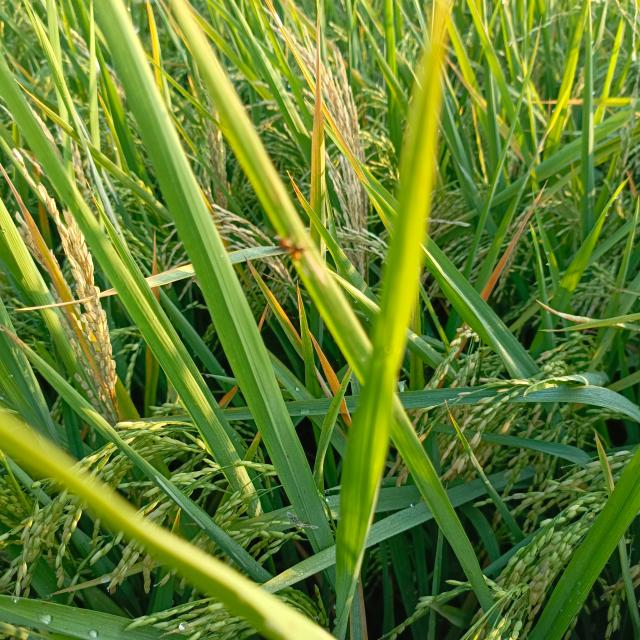Hama Putih Palsu: (469, 450, 488, 478)
Hawar Daun Bakteri: (0, 155, 72, 296), (482, 175, 548, 301), (240, 250, 288, 332), (307, 0, 330, 163), (9, 294, 106, 314), (307, 329, 338, 390), (285, 166, 309, 209), (294, 276, 304, 328)
Lalat: (282, 507, 322, 540)
